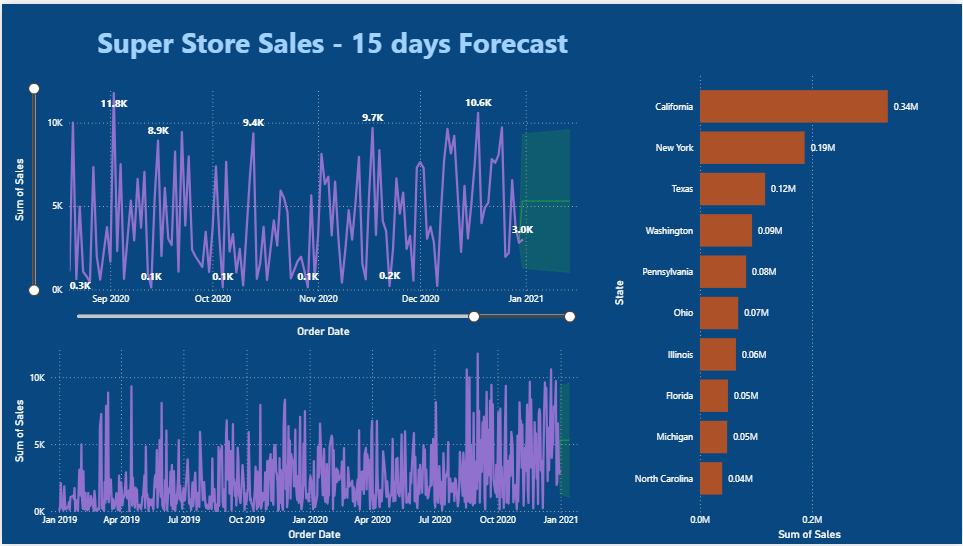

This screenshot's page, from the dashboard's own definition file:
{"tool":"powerbi","page":{"name":"Forecast","canvas":[1280,720],"ordinal":1},"visuals":[{"type":"lineChart","fields":{"Category":["SuperStore_Sales_Dataset.Order Date"],"Y":["Sum(SuperStore_Sales_Dataset.Sales)"]},"box":[10,100,776,348],"z":0},{"type":"clusteredBarChart","fields":{"Category":["SuperStore_Sales_Dataset.State"],"Y":["Sum(SuperStore_Sales_Dataset.Sales)"]},"box":[810,80,432,640],"z":1000},{"type":"lineChart","fields":{"Category":["SuperStore_Sales_Dataset.Order Date"],"Y":["Sum(SuperStore_Sales_Dataset.Sales)"]},"box":[10,448,776,272],"z":2000},{"type":"textbox","box":[72,20,738,60],"z":3000}]}

Visuals, with their boxes in screenshot pixels (x1, y1, x2, y2), scaled from the page's 1280x720 canvas onto the 963x546 screenshot:
lineChart - SuperStore_Sales_Dataset.Order Date x Sum(SuperStore_Sales_Dataset.Sales): pyautogui.locateOnScreen(8, 76, 591, 340)
clusteredBarChart - SuperStore_Sales_Dataset.State x Sum(SuperStore_Sales_Dataset.Sales): pyautogui.locateOnScreen(609, 61, 934, 545)
lineChart - SuperStore_Sales_Dataset.Order Date x Sum(SuperStore_Sales_Dataset.Sales): pyautogui.locateOnScreen(8, 340, 591, 545)
textbox: pyautogui.locateOnScreen(54, 15, 609, 61)
